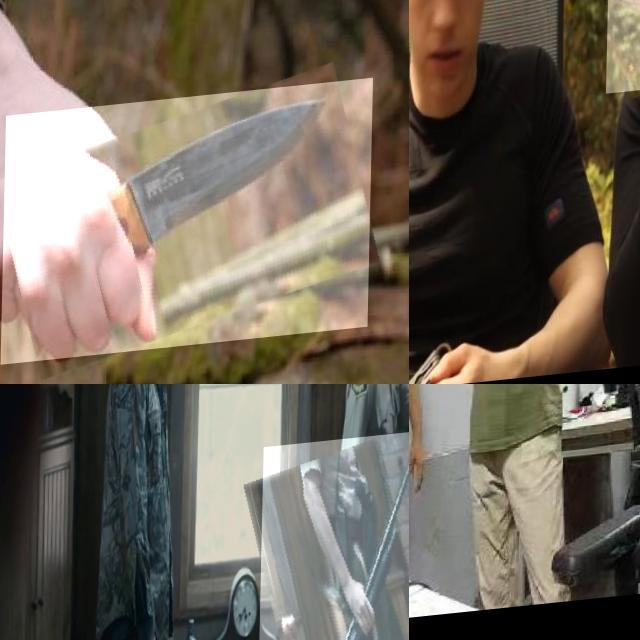-: (3, 90, 374, 370), (428, 384, 477, 415)
gun-knife-thesis - v11 Yolov5 augmented: (258, 436, 409, 640)
